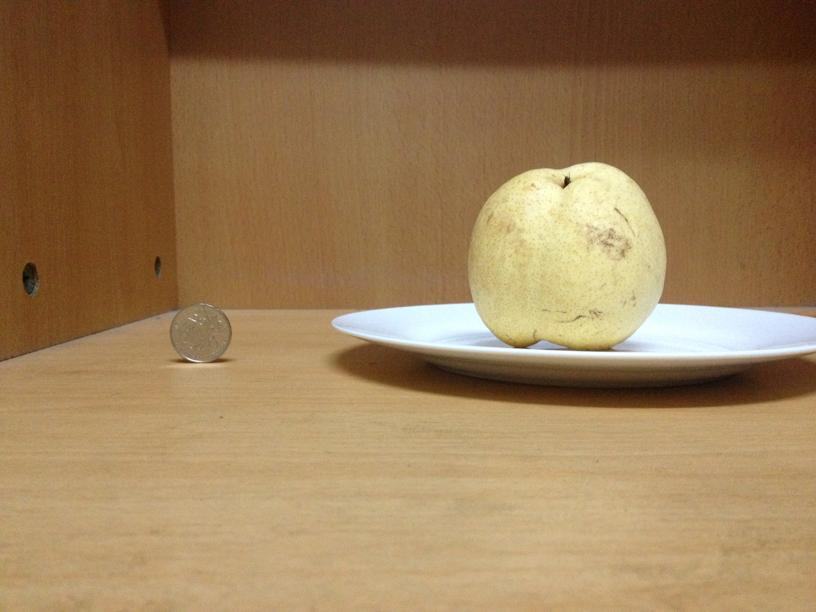coin: (169, 300, 232, 362)
pear: (465, 163, 668, 348)
